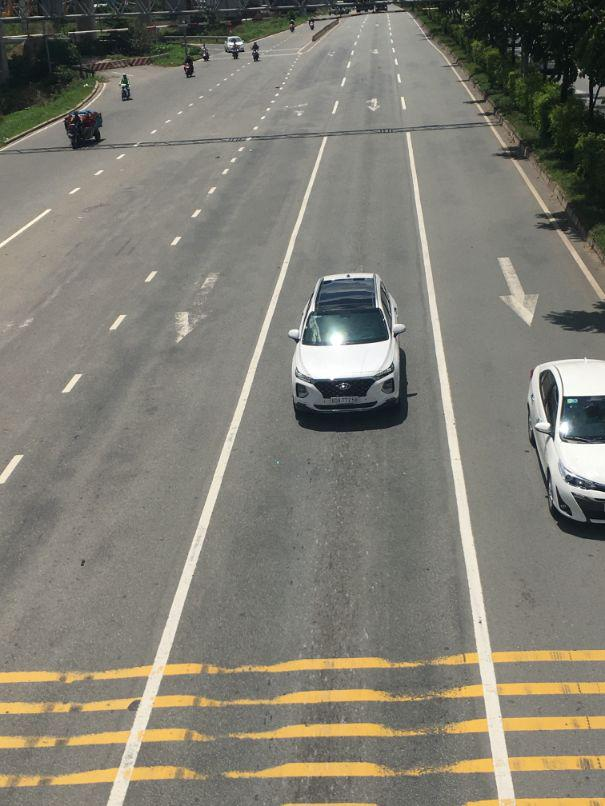car: (290, 271, 411, 427), (526, 355, 604, 537), (225, 35, 244, 55)
motorbike: (66, 108, 103, 150), (120, 74, 132, 101), (183, 58, 194, 80), (203, 48, 211, 65)
